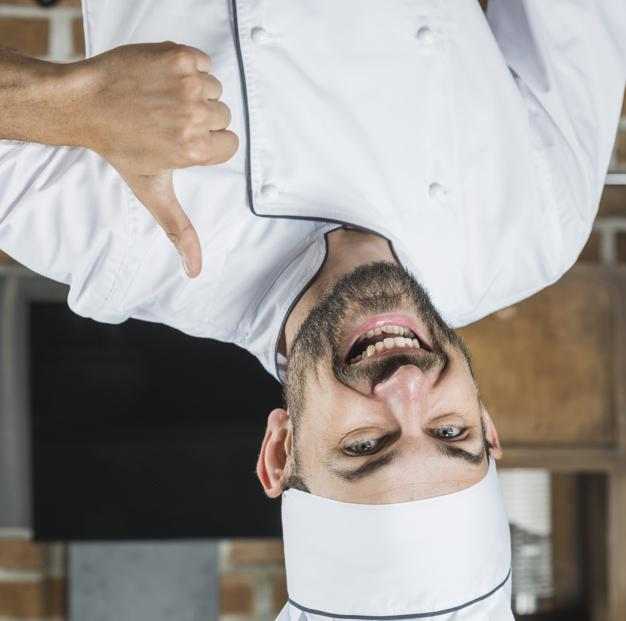thumbsdown: (124, 43, 240, 279)
